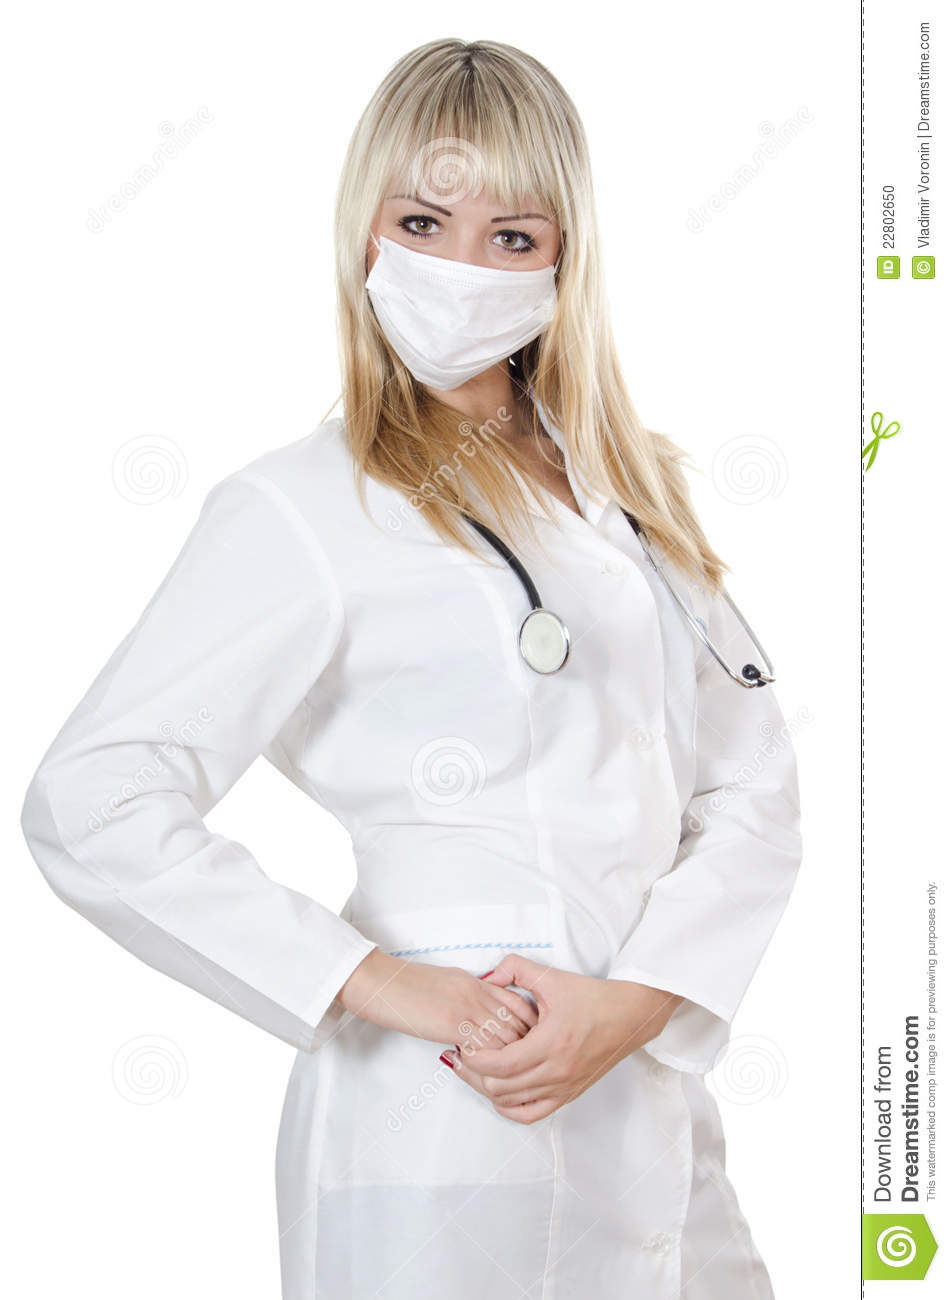mask: (369, 239, 569, 401)
